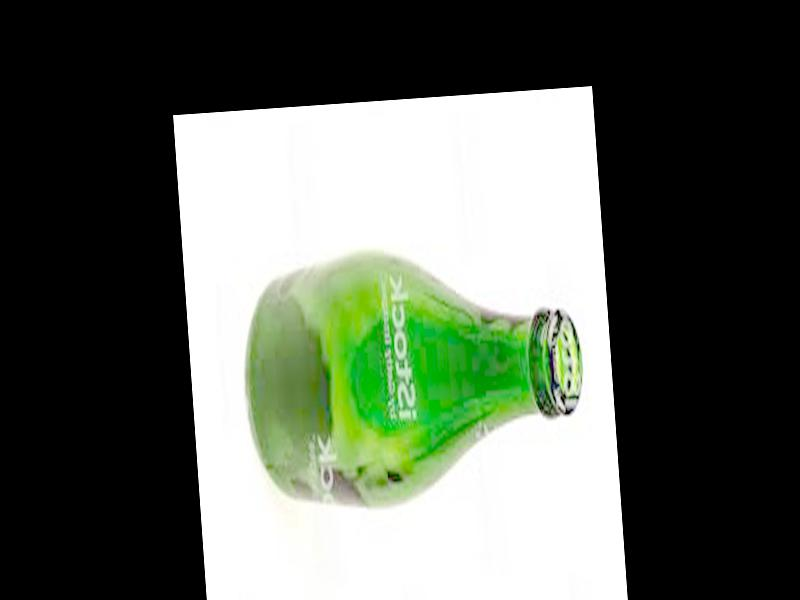Beer: (236, 236, 592, 518)
